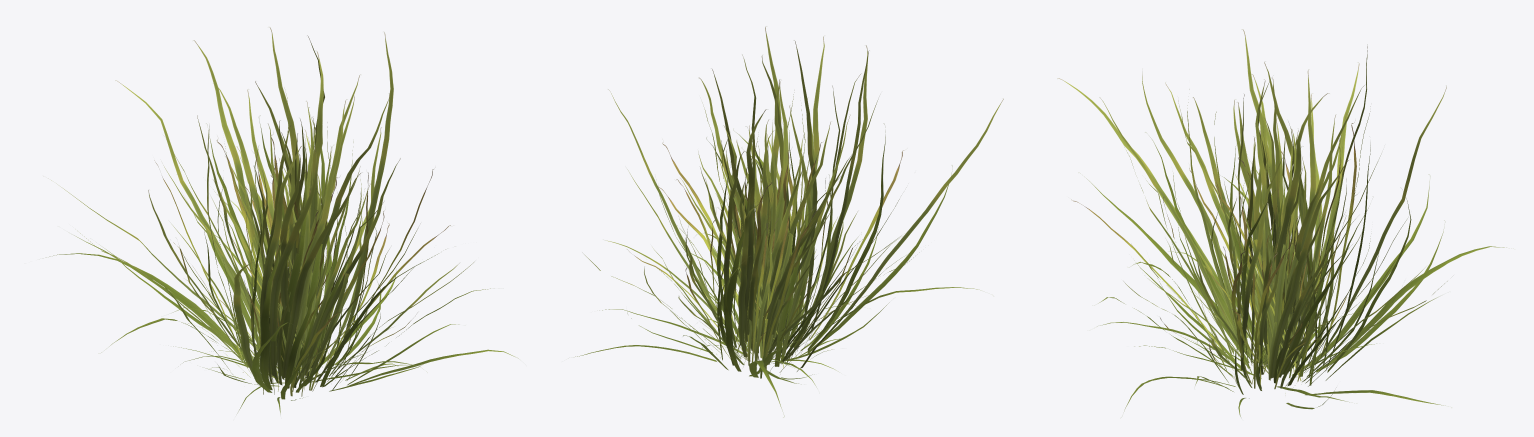
File: grass.glb
The picture shows the model from 3 angles, left to right: view 1: azimuth 30°, elevation 25°; view 2: azimuth 150°, elevation 25°; view 3: azimuth 270°, elevation 25°; orthographic projection. The views are drawn at different scales.
Visible parts, largest first — view 1: Grass1; view 2: Grass1; view 3: Grass1.
Boxes of the visible parts, x1,y1,x2,y2 form: Grass1: (49,27,518,414); Grass1: (575,27,1003,417); Grass1: (1057,29,1506,416).
Size of the model in its own units: 0.7104 by 0.6071 by 0.7709.
3 materials, 3 textured.
